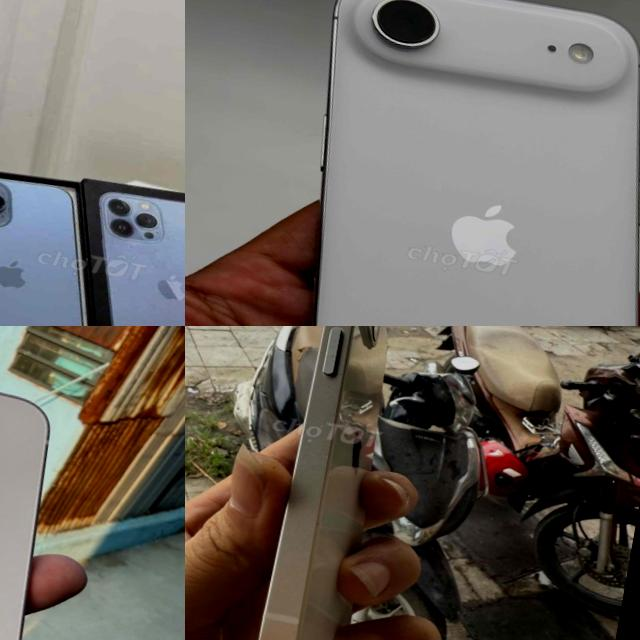gen_12_13: (245, 326, 420, 640), (0, 346, 80, 640), (0, 161, 120, 326)
gen_17: (234, 0, 640, 326)
